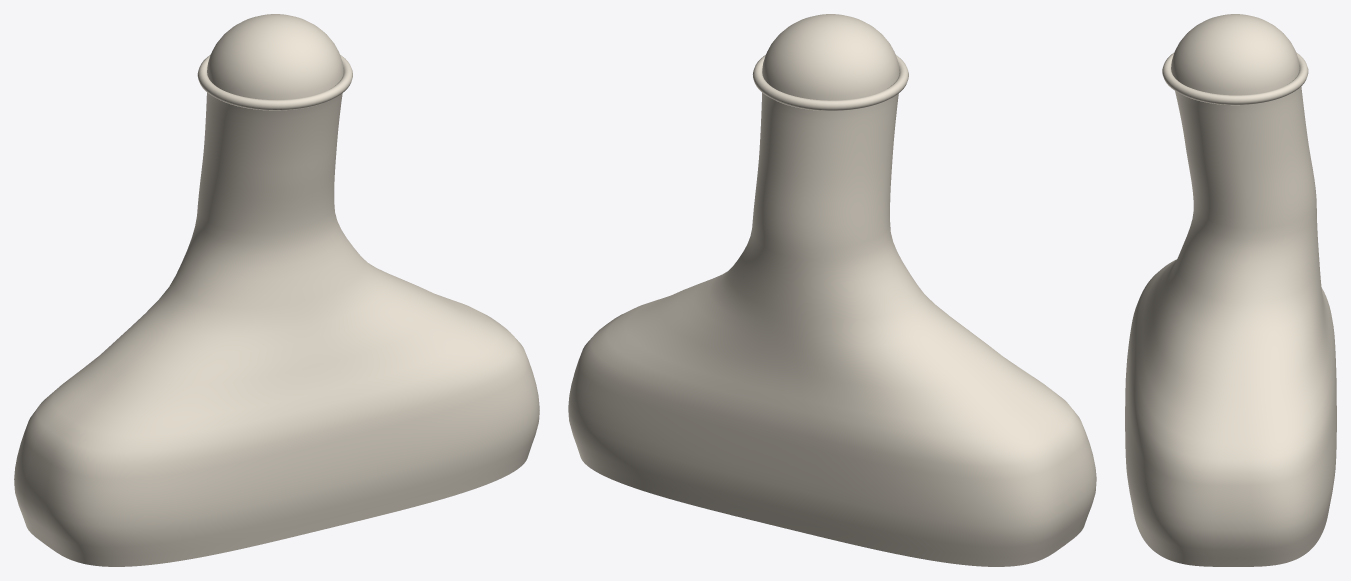
The model's file is th-body.glb.
3 renders of one model, left to right at view 1: azimuth 30°, elevation 25°; view 2: azimuth 150°, elevation 25°; view 3: azimuth 270°, elevation 25°, orthographic. The views are drawn at different scales.
Parts seen in each view (by area): view 1: th-body; view 2: th-body; view 3: th-body.
Boxes of the visible parts, bbox=[...] form: th-body: bbox=[14, 14, 539, 566]; th-body: bbox=[568, 14, 1096, 566]; th-body: bbox=[1125, 14, 1336, 566].
Bounding box in the file's own units: 0.368 × 0.3389 × 0.148.
